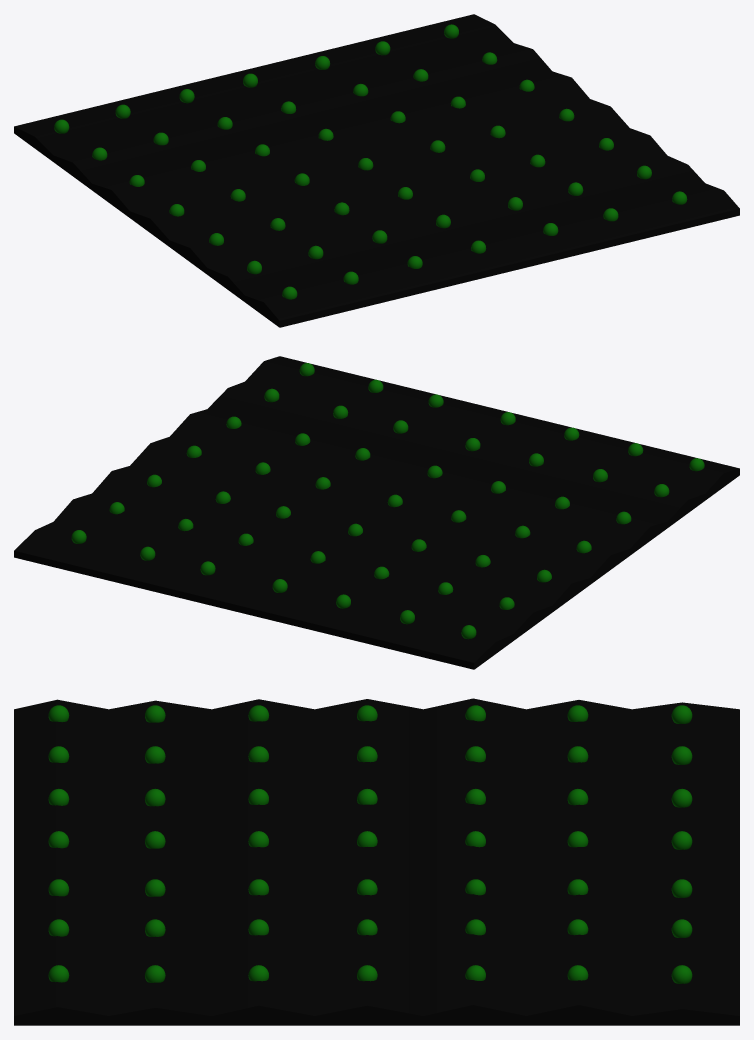
The model's file is DirtPlot3D.fbx.
3 views of the same model, one above another, from view 1: azimuth 30°, elevation 25°; view 2: azimuth 150°, elevation 25°; view 3: azimuth 270°, elevation 25° (orthographic). The views are drawn at different scales.
Parts seen in each view (by area): view 1: pCube12; view 2: pCube12; view 3: pCube12.
Part boxes in pixels (bbox=[...]): pCube12: bbox=[14, 14, 739, 327]; pCube12: bbox=[14, 356, 739, 669]; pCube12: bbox=[14, 698, 739, 1025].
Bounding box in the file's own units: 70 × 3.21 × 70.
